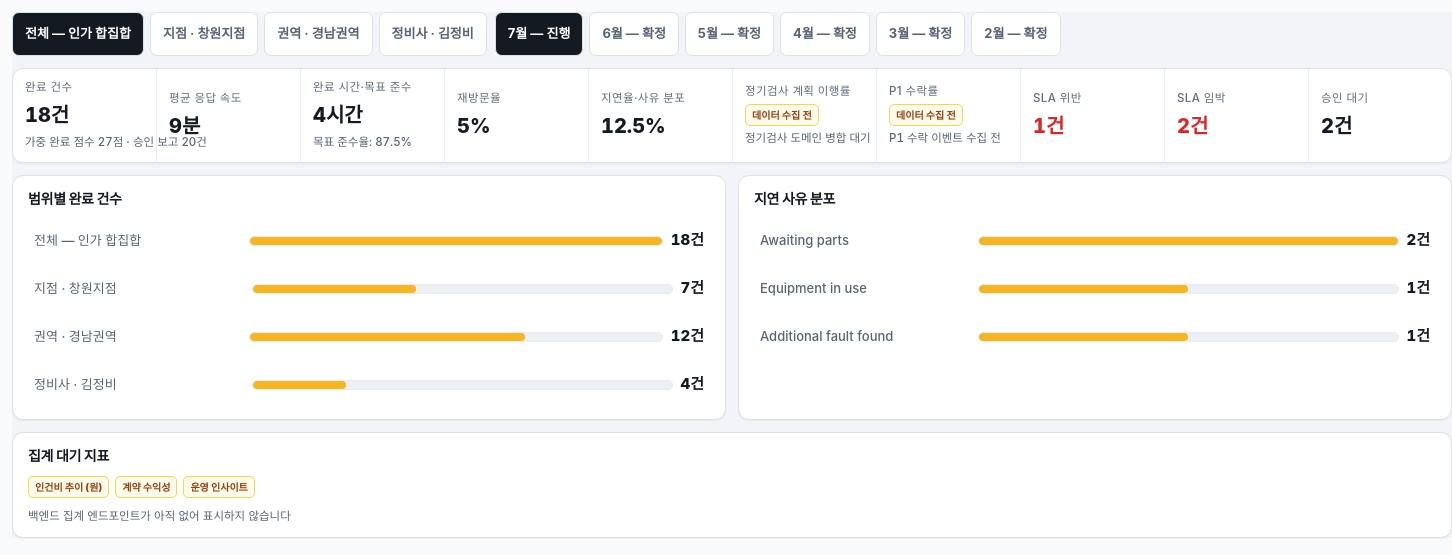
Test: DashboardScreen › switches visible rollups via PBAC-relative scope segments and keeps unavailable metrics honest
The width and height of the screenshot is (1452, 555).
Expected: the button with aria-label "회사 보기" reads "전체 — 인가 합집합", [12,12,144,56]
Expected: the link with aria-label "완료 건수 18건 상세 열기" is shown, [13,69,157,162]
Click the button with aria-label "지점 보기".
click(204, 34)  # box [150,12,258,56]
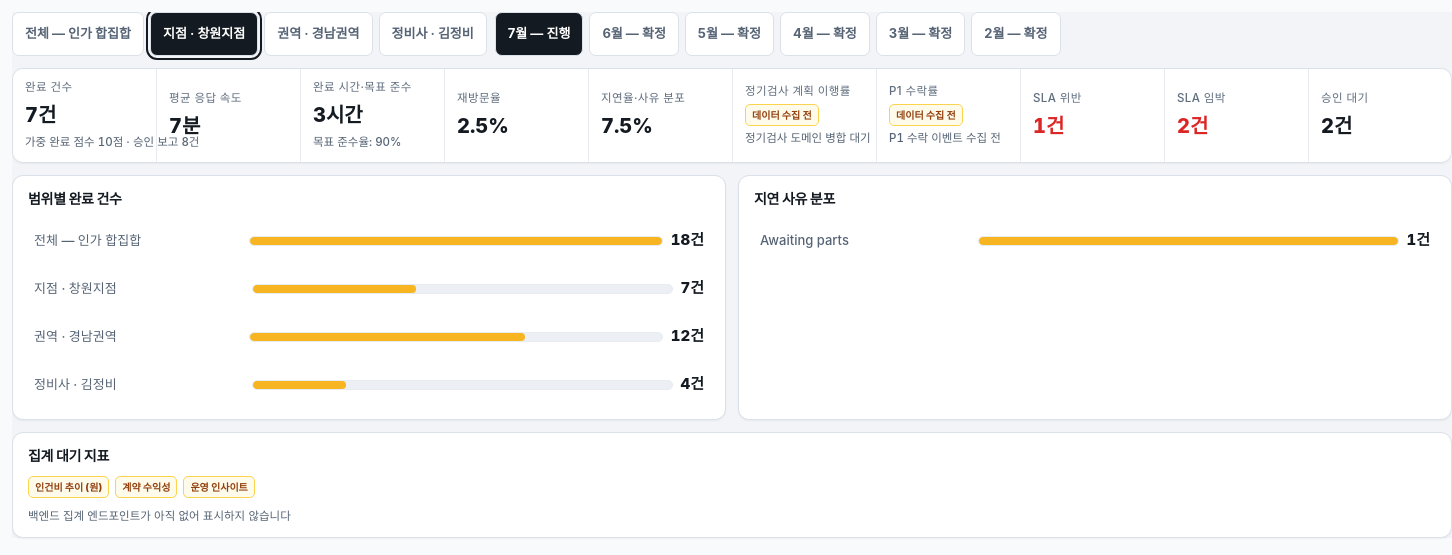
Now the link with aria-label "완료 건수 7건 상세 열기" is shown, box [13,69,157,162]
